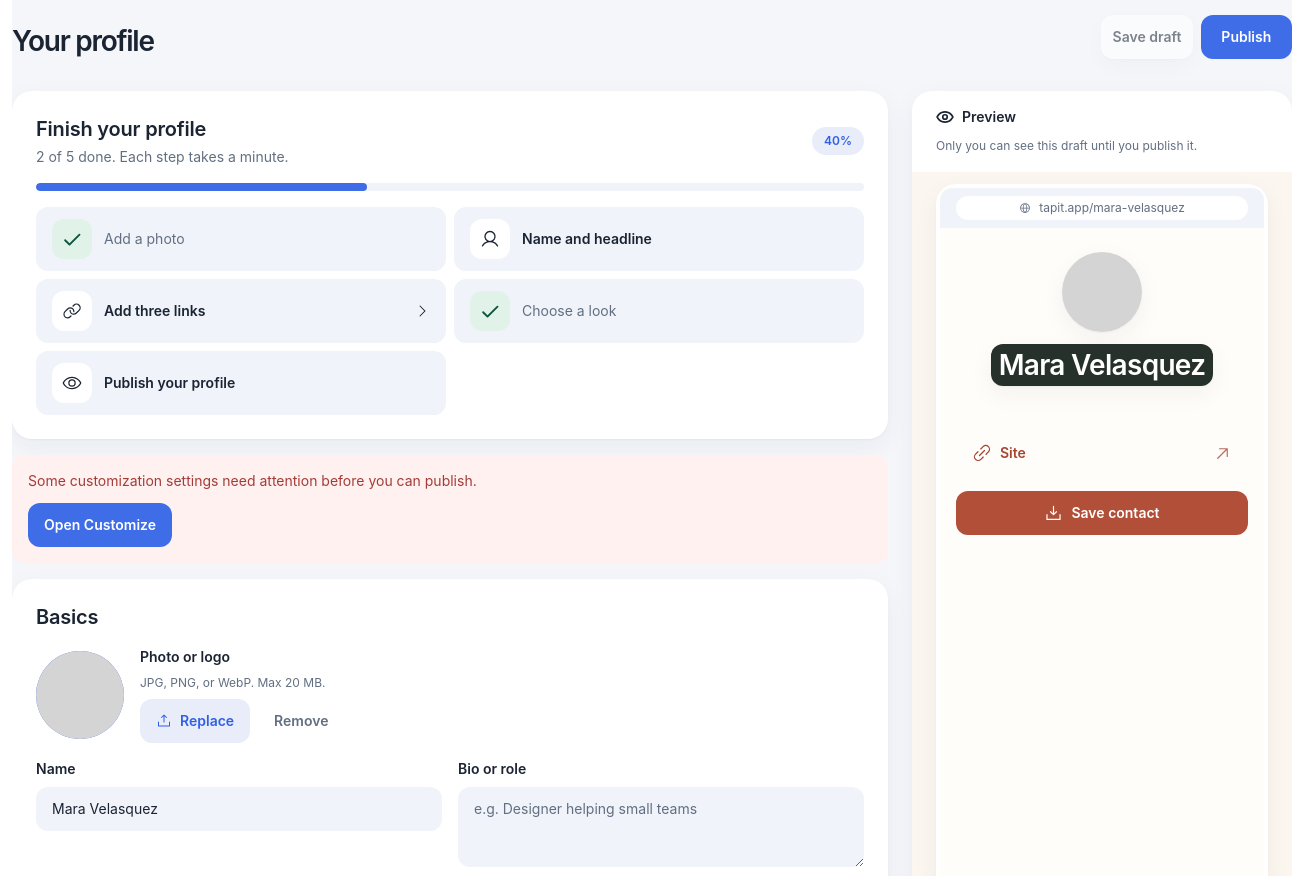
offers explicit recovery after a revision conflict without retrying on the stale revision
This screenshot has width=1304, height=876.
Replace the text in the field labelled "Name" with "My local edit" at coordinates (239, 809), box top-left (36, 787), bottom-right (442, 831)
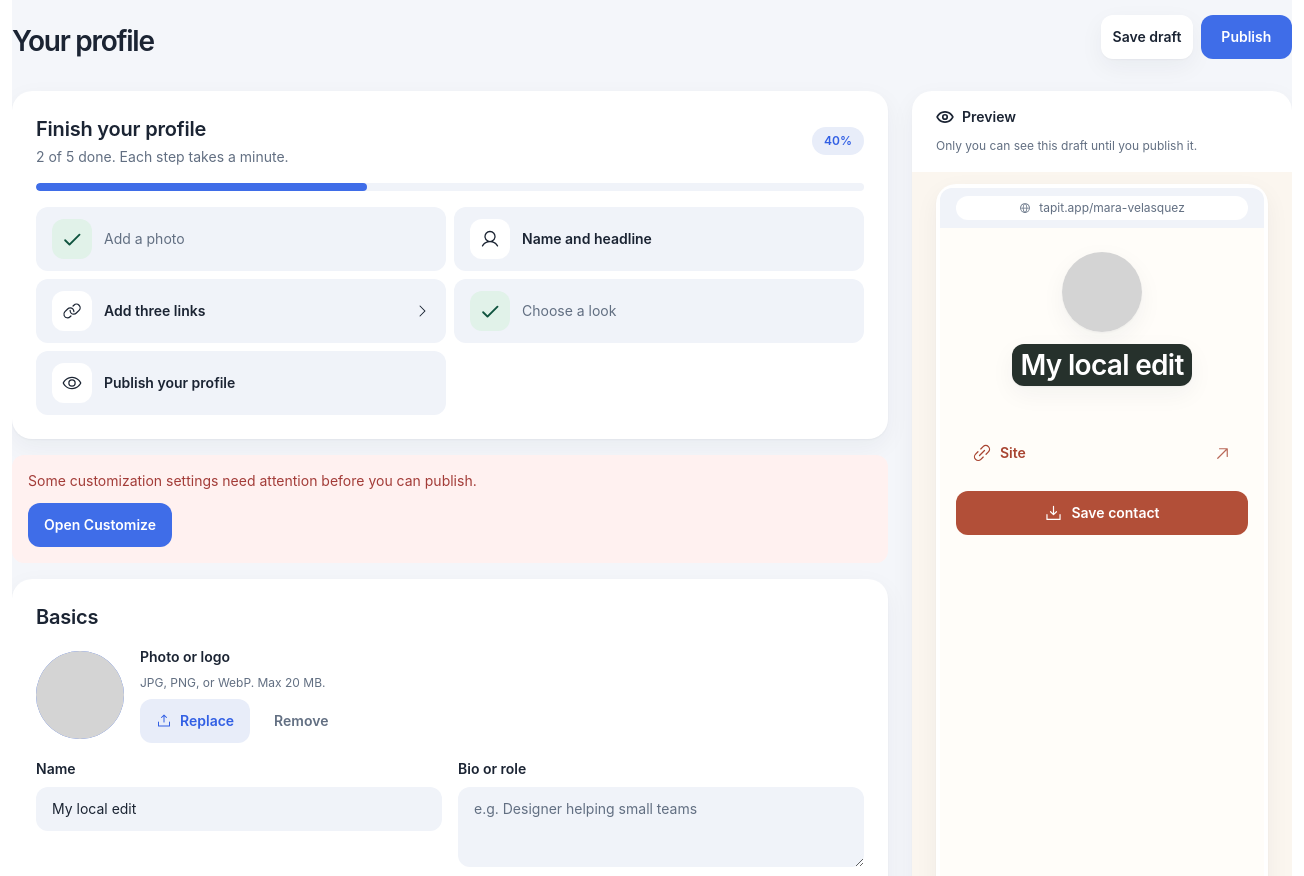
Click the link "Open Customize" at coordinates (100, 525), box top-left (28, 503), bottom-right (172, 547)
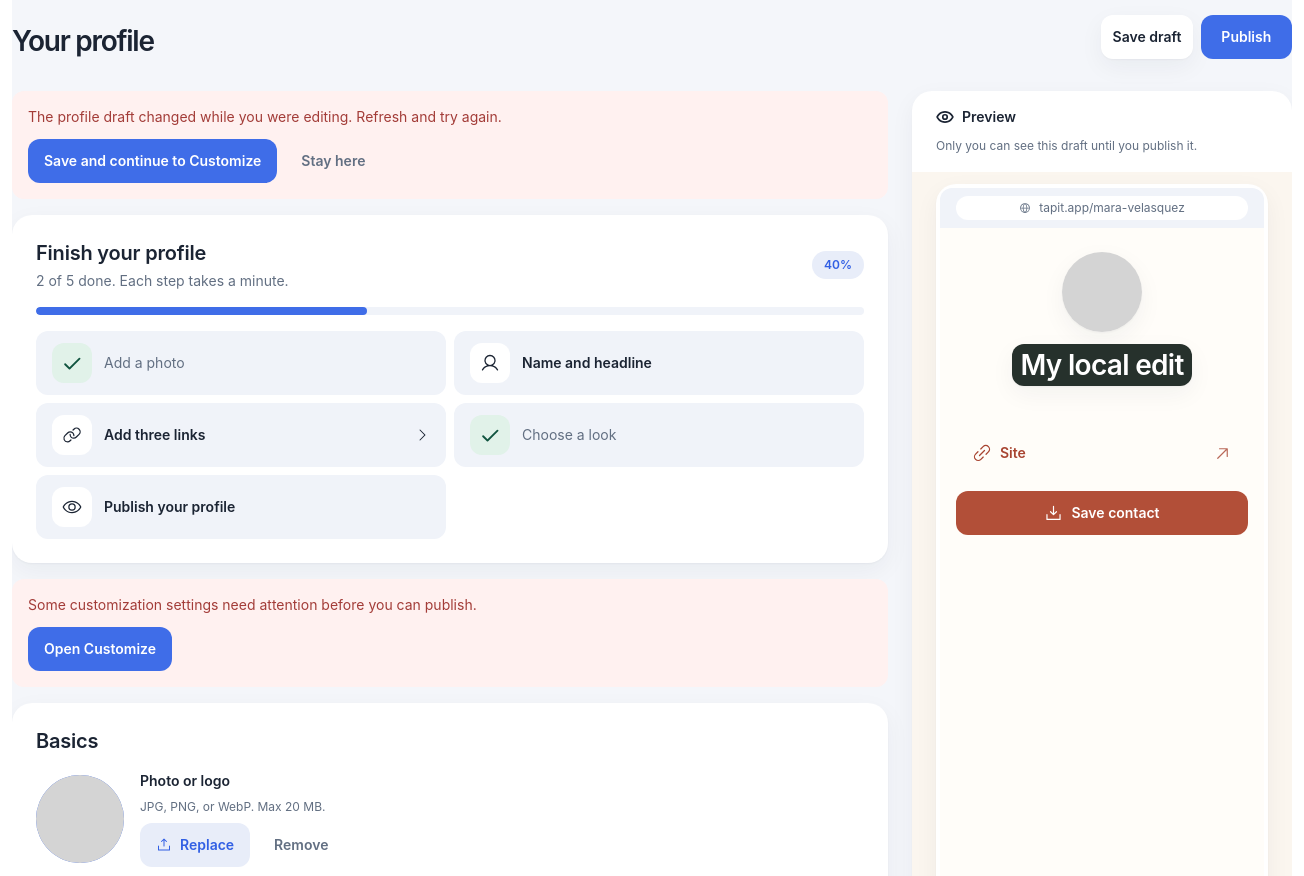
Click the button "Stay here" at coordinates (333, 161), box top-left (285, 139), bottom-right (381, 183)
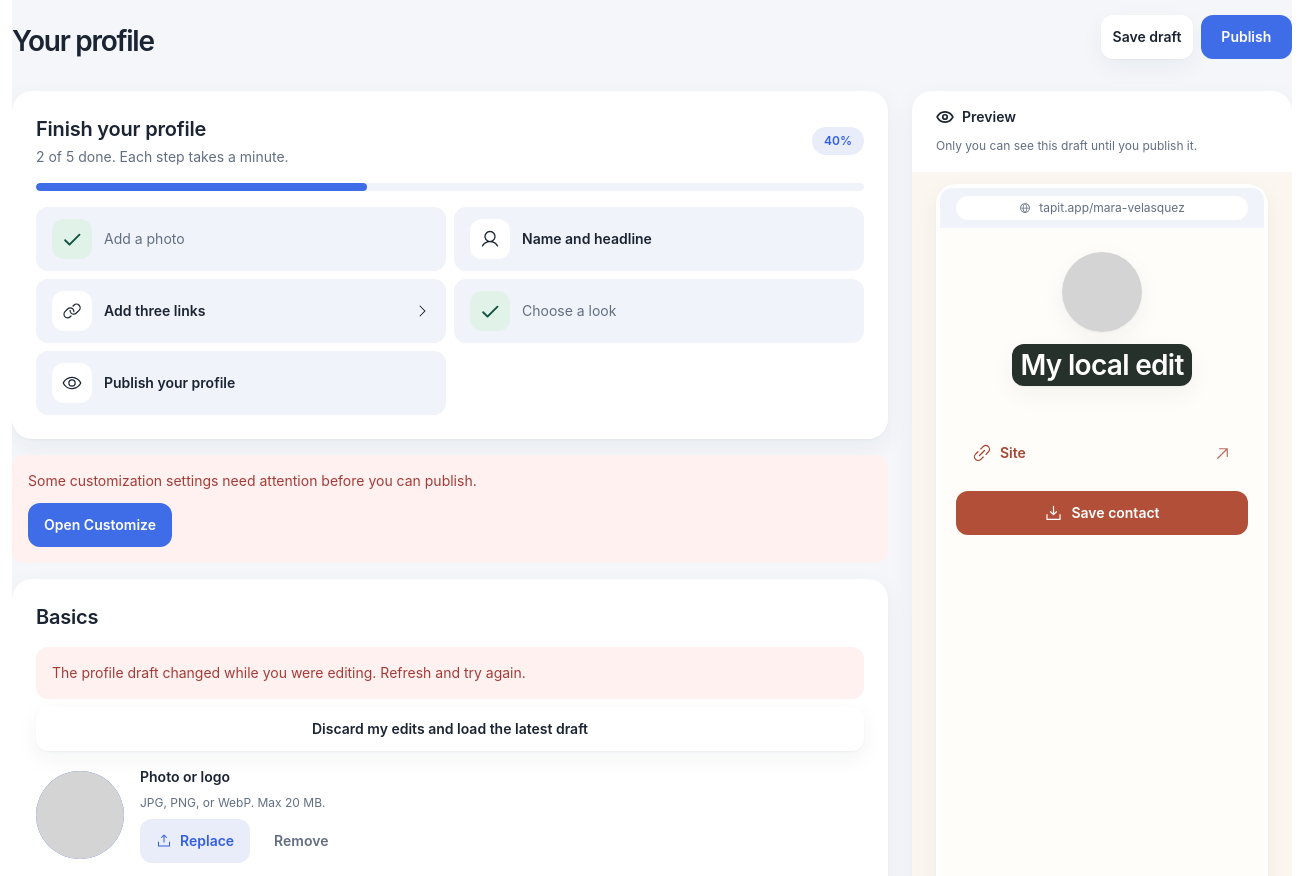
Check: the button "Discard my edits and load the latest draft" is shown
Click the button "Discard my edits and load the latest draft" at coordinates (450, 729), box top-left (36, 707), bottom-right (864, 751)
(page scrolled)
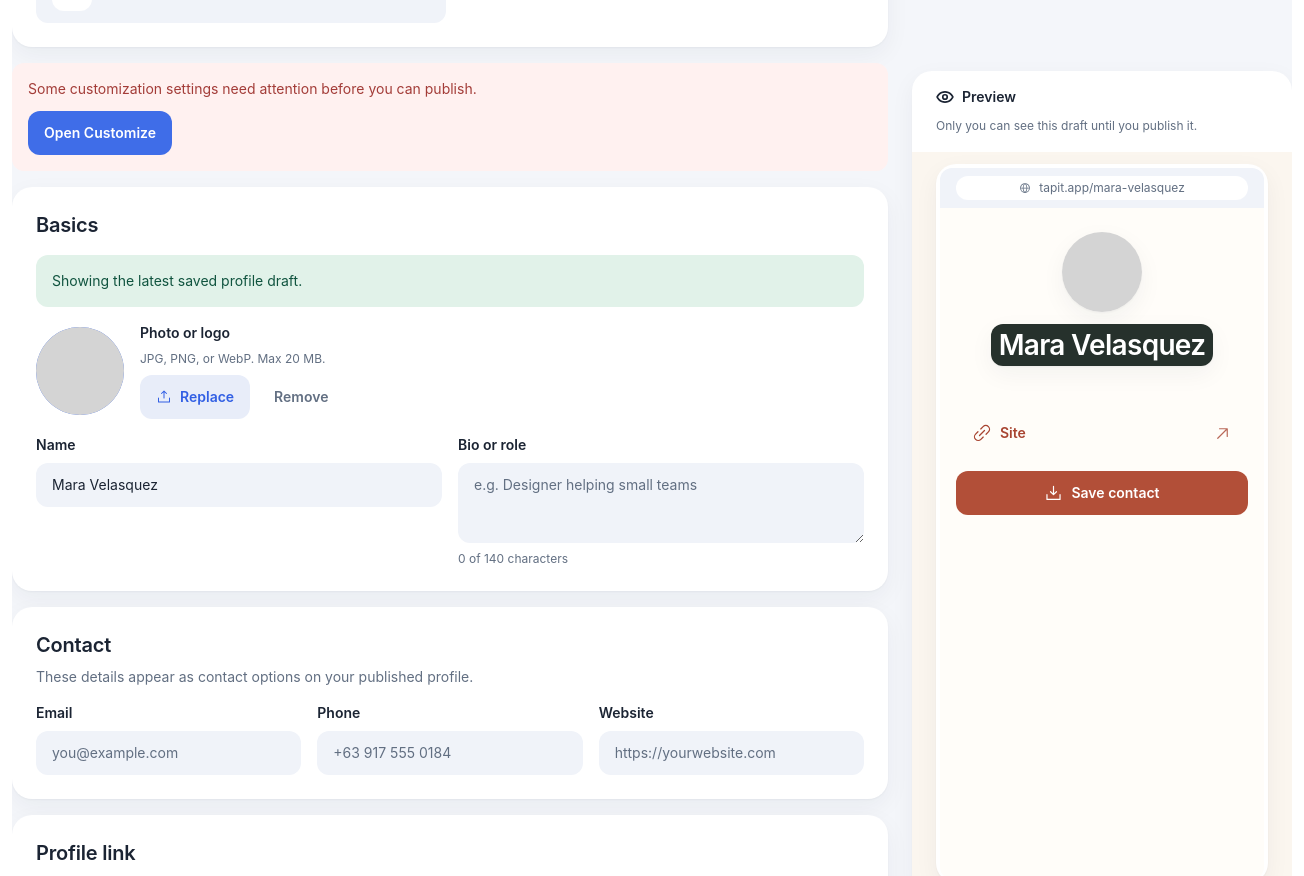
Check: the field labelled "Name" holds "Mara Velasquez", box top-left (36, 463), bottom-right (442, 507)
